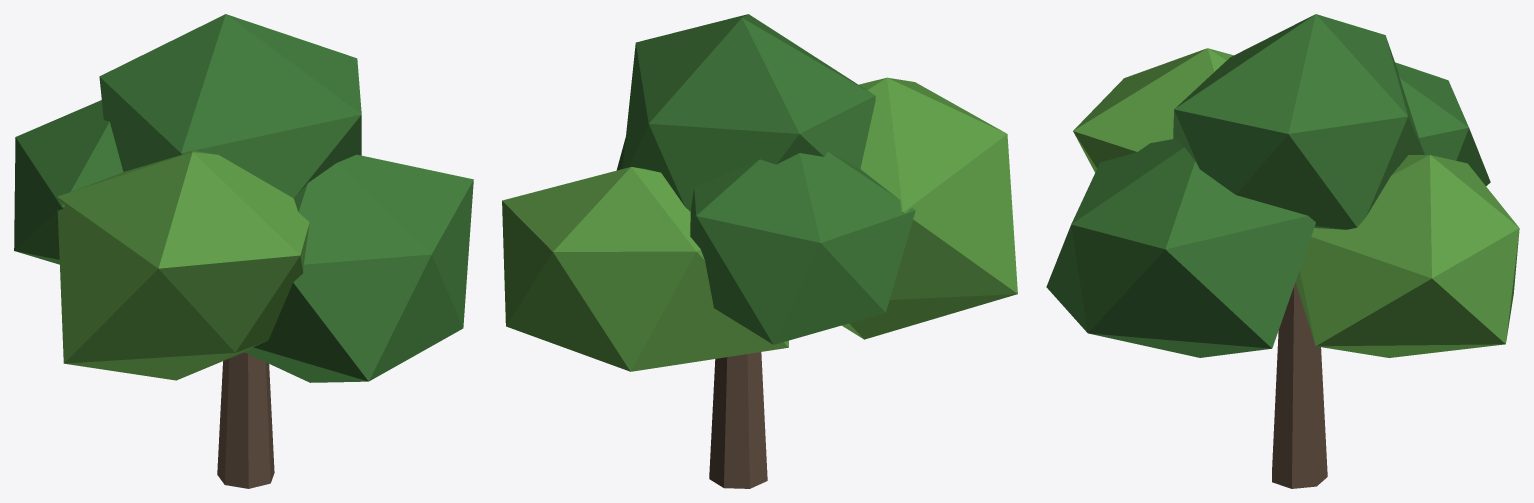
File: ENV_Tree_B.fbx
The picture shows the model from 3 angles, left to right: view 1: azimuth 30°, elevation 25°; view 2: azimuth 150°, elevation 25°; view 3: azimuth 270°, elevation 25°; orthographic projection. The views are drawn at different scales.
Visible parts, largest first — view 1: ENV_Tree_B; view 2: ENV_Tree_B; view 3: ENV_Tree_B.
Boxes of the visible parts, x1,y1,x2,y2 form: ENV_Tree_B: [14, 14, 473, 488]; ENV_Tree_B: [502, 14, 1017, 488]; ENV_Tree_B: [1046, 14, 1519, 488].
Bounding box in the file's own units: 3.85 × 4.3 × 4.03.
